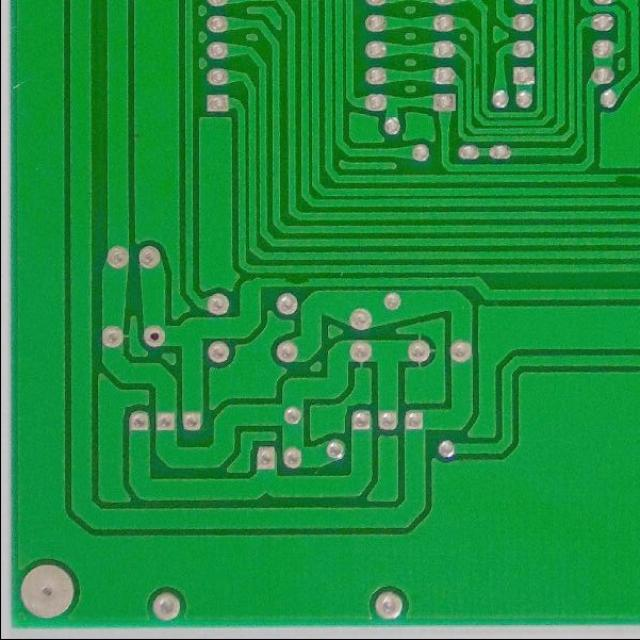Missing_Hole: (140, 324, 166, 348)
MouseBite: (281, 274, 314, 290), (610, 170, 639, 186)
